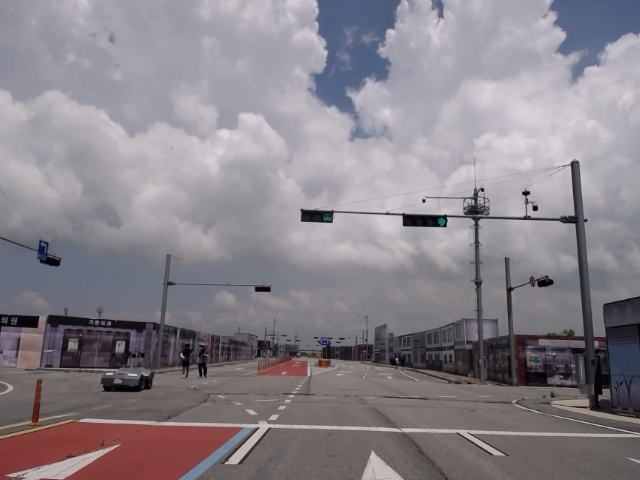straight_green_4: (403, 213, 450, 228)
